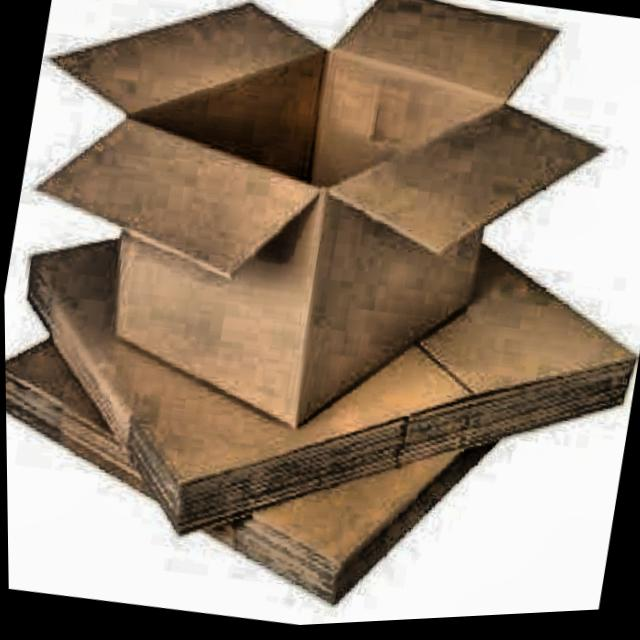Cardbox: (2, 122, 640, 618), (3, 219, 640, 640), (6, 0, 607, 432)
